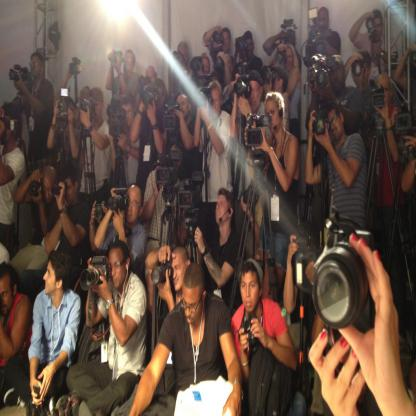Camera: (1, 8, 416, 352), (308, 224, 387, 346)
